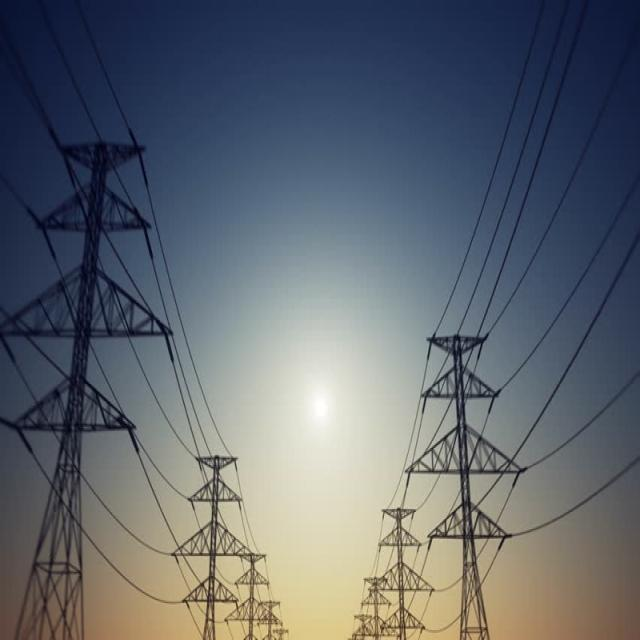non-critical vegetation: (7, 140, 158, 632), (422, 323, 526, 623), (176, 445, 248, 626), (371, 492, 433, 636)
